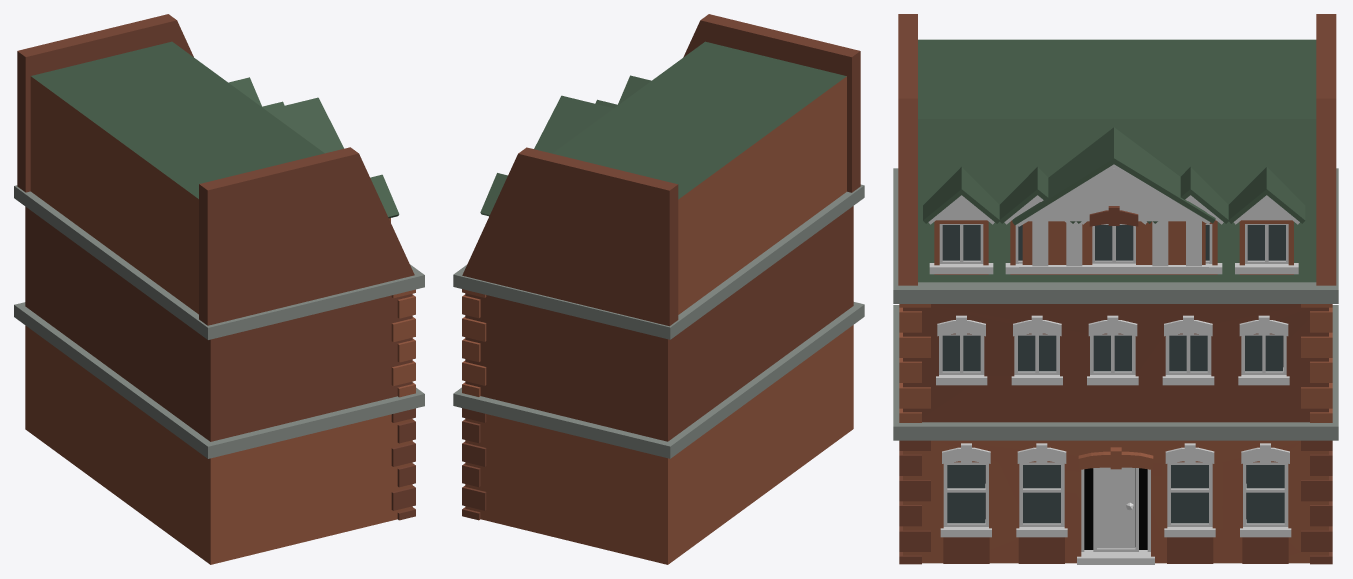
Rendered from House-1-5.glb.
3 renders of one model, left to right at view 1: azimuth 30°, elevation 25°; view 2: azimuth 150°, elevation 25°; view 3: azimuth 270°, elevation 25°, orthographic. The views are drawn at different scales.
Visible parts, largest first — view 1: Main-1-5, RoofWindowBig-1-5, RoofWindowSides-1-5; view 2: Main-1-5, RoofWindowBig-1-5, RoofWindowSides-1-5; view 3: Main-1-5, RoofWindowBig-1-5, RoofWindowSides-1-5, RoofWindowMiddle-1-5, RoofWindowCentre-1-5.
Boxes of the visible parts, x1,y1,x2,y2 form: Main-1-5: (14, 14, 424, 564); RoofWindowBig-1-5: (266, 97, 343, 153); RoofWindowSides-1-5: (228, 77, 399, 222); Main-1-5: (453, 14, 864, 564); RoofWindowBig-1-5: (534, 95, 613, 153); RoofWindowSides-1-5: (480, 75, 651, 216); Main-1-5: (893, 14, 1338, 564); RoofWindowBig-1-5: (1012, 127, 1215, 274); RoofWindowSides-1-5: (923, 167, 1305, 274); RoofWindowMiddle-1-5: (999, 167, 1228, 274); RoofWindowCentre-1-5: (1076, 221, 1151, 274).
Size of the model in its own units: 6.54 by 10.88 by 10.14.
Materials: 2 (2 with a texture image).
